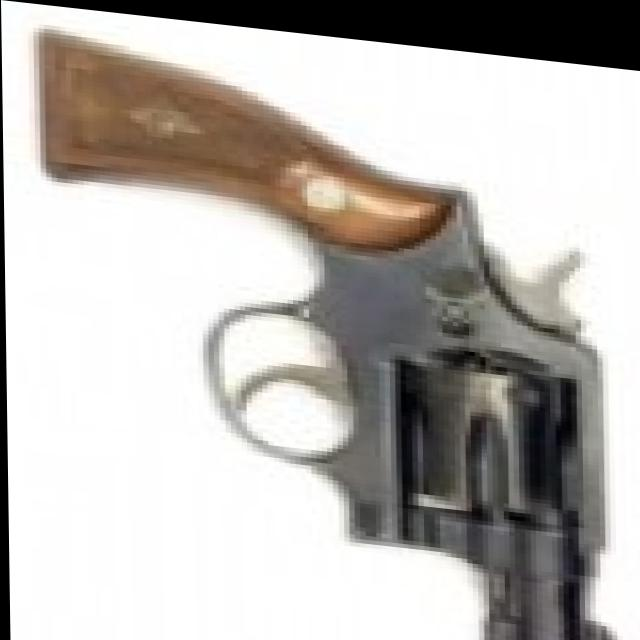handgun: (43, 32, 616, 640)
